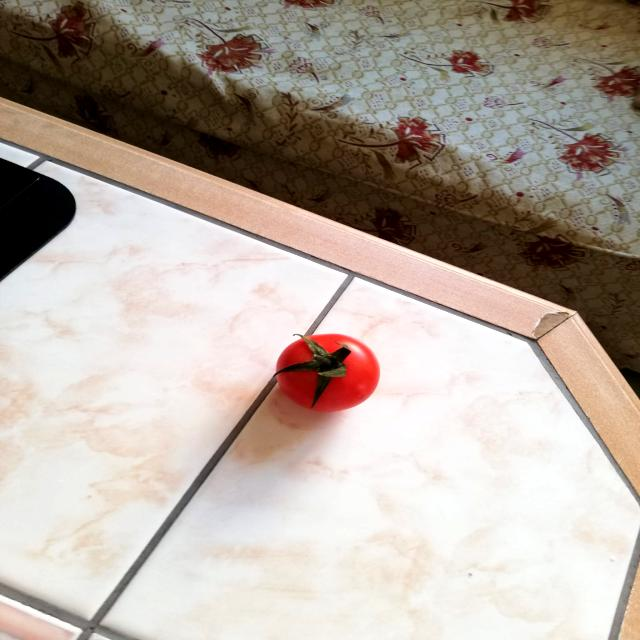tomato: (266, 326, 384, 417)
